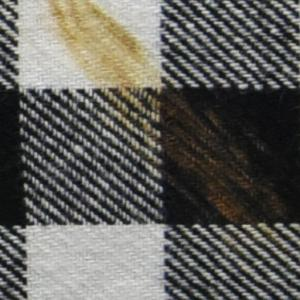Oil Stain: (43, 1, 300, 263)
